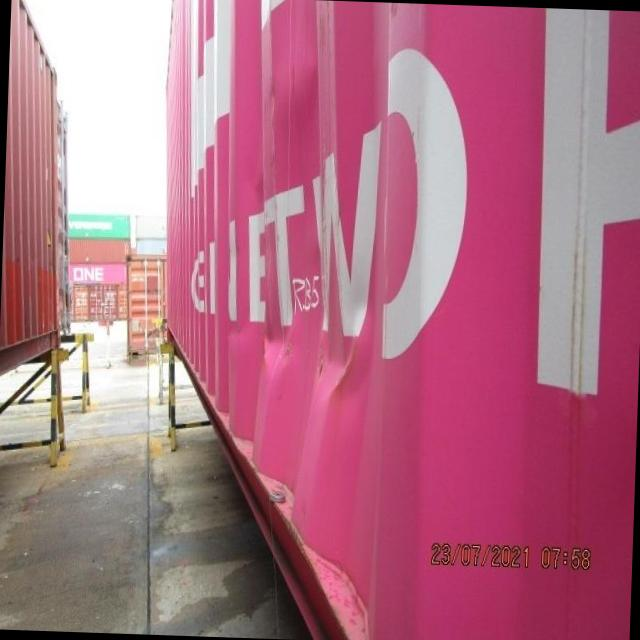Deframe_or_Dent: (224, 184, 390, 427)
